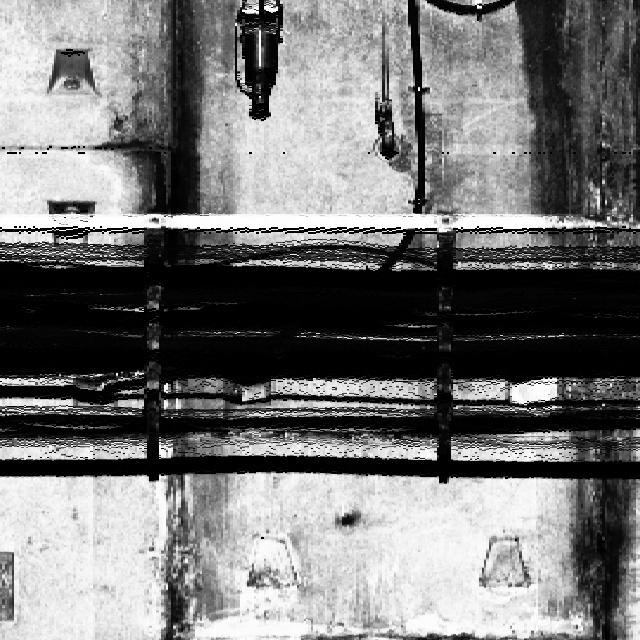leakage: (508, 0, 637, 636), (116, 0, 221, 269)
